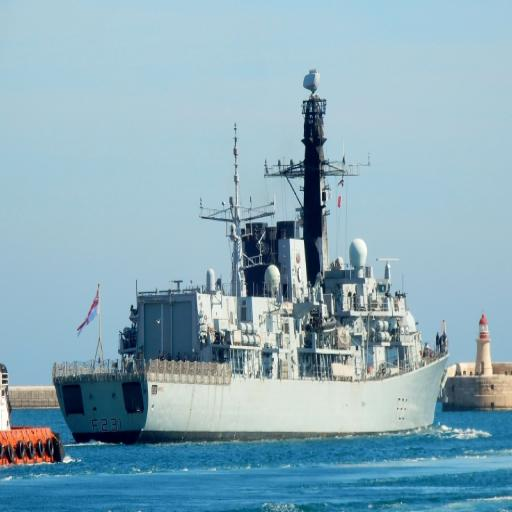Fragata: (52, 47, 455, 456)
